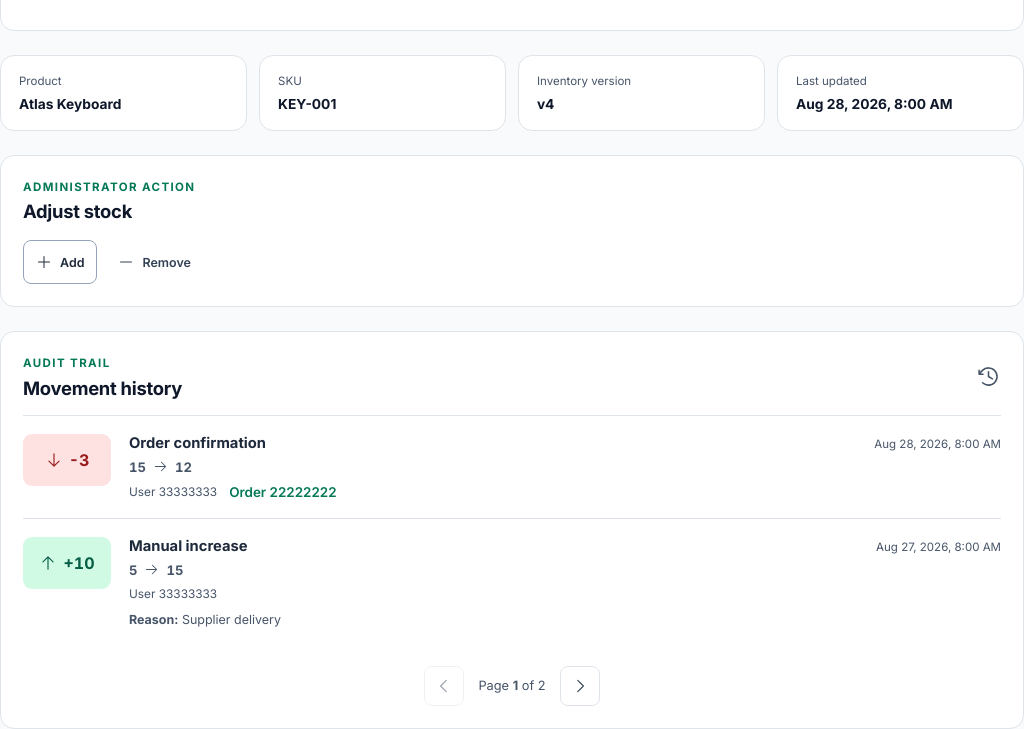
Test: InventoryDetailPage › loads the next movement page
The image size is (1024, 729).
(page scrolled)
Click the button named "Next page" at (580,686), box x1=560 y1=666 x2=600 y2=706
(page scrolled)
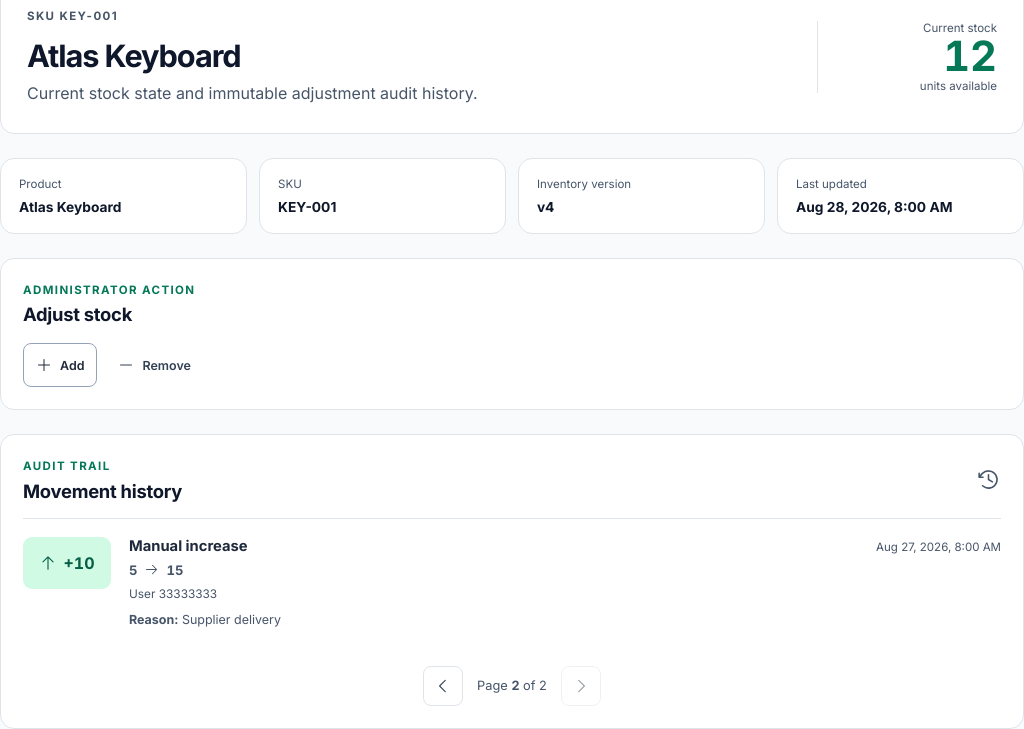
Now the navigation bar named "Pagination" reads "Page 2 of 2", box x1=423 y1=666 x2=601 y2=706
